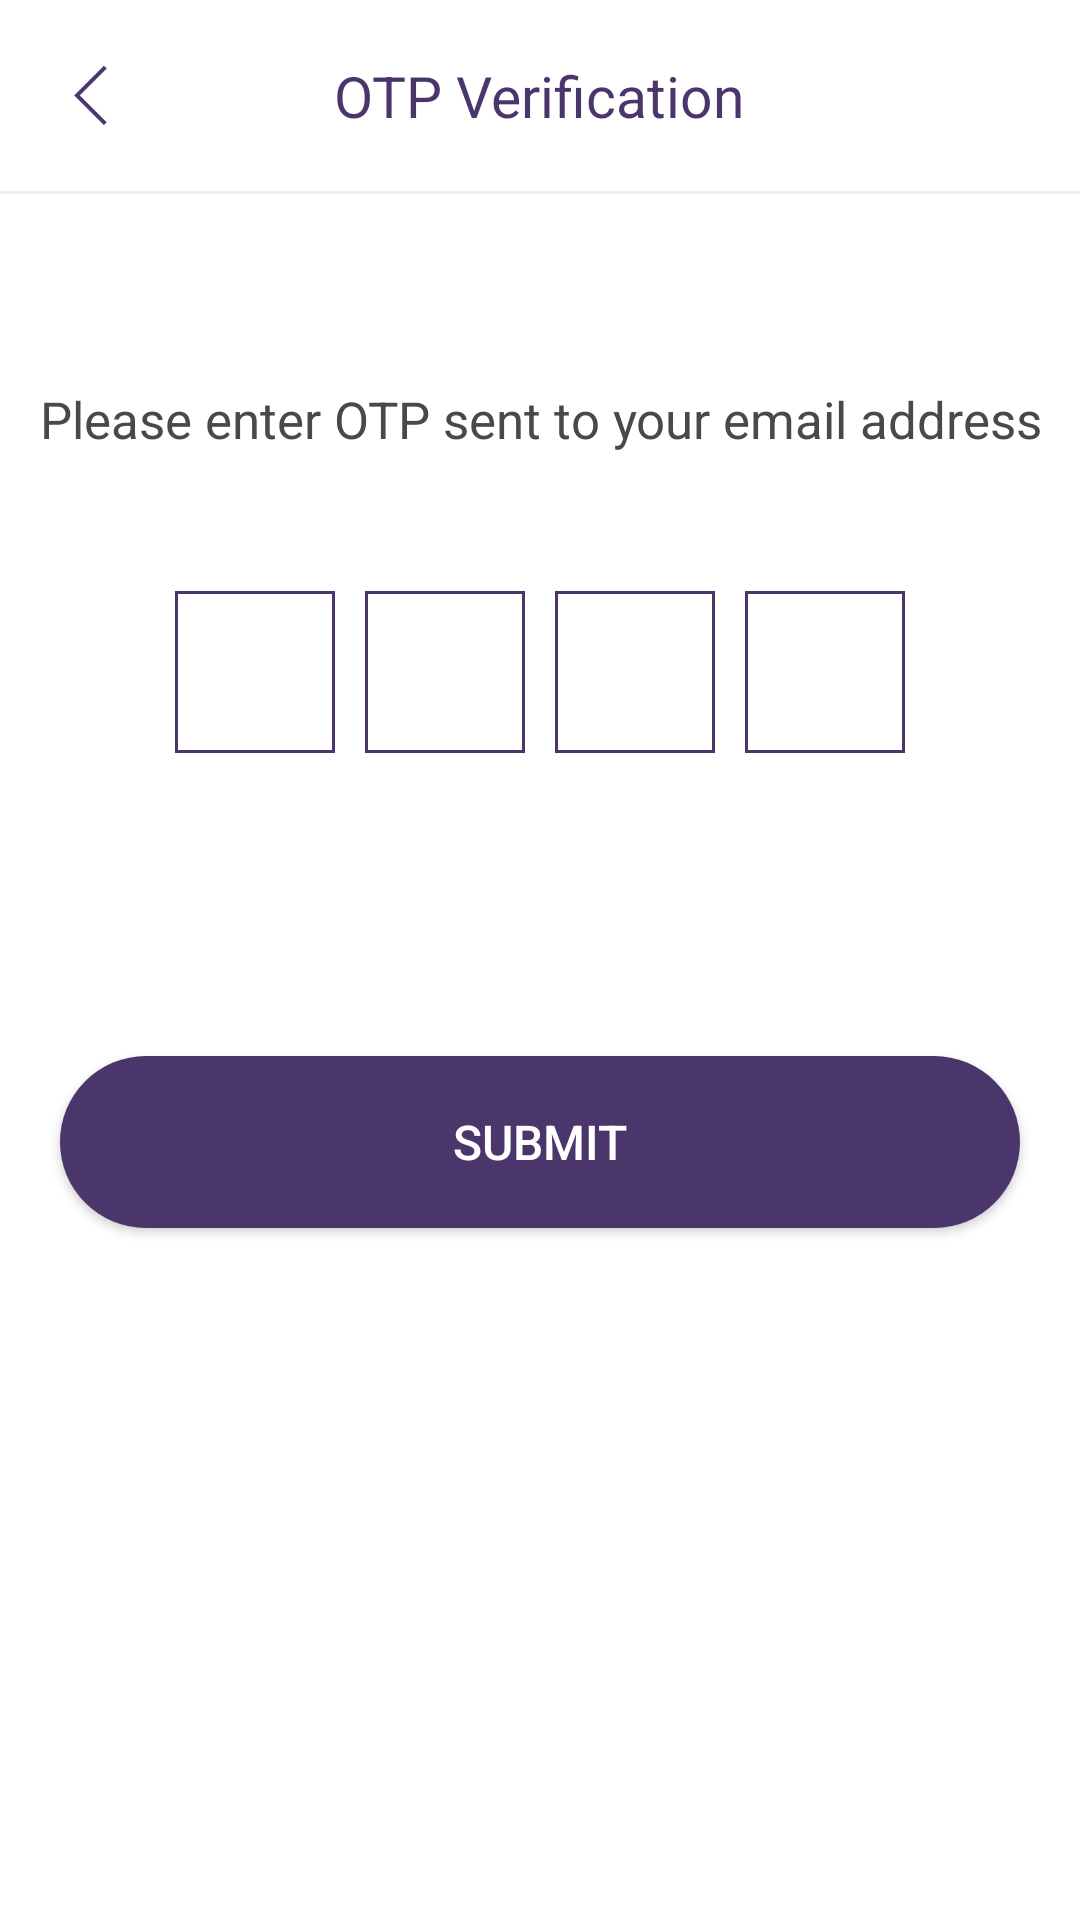

Screen size 1080*1920. Icon name, then its center in pixels as point (x, y):
backbutton: point (90, 95)
